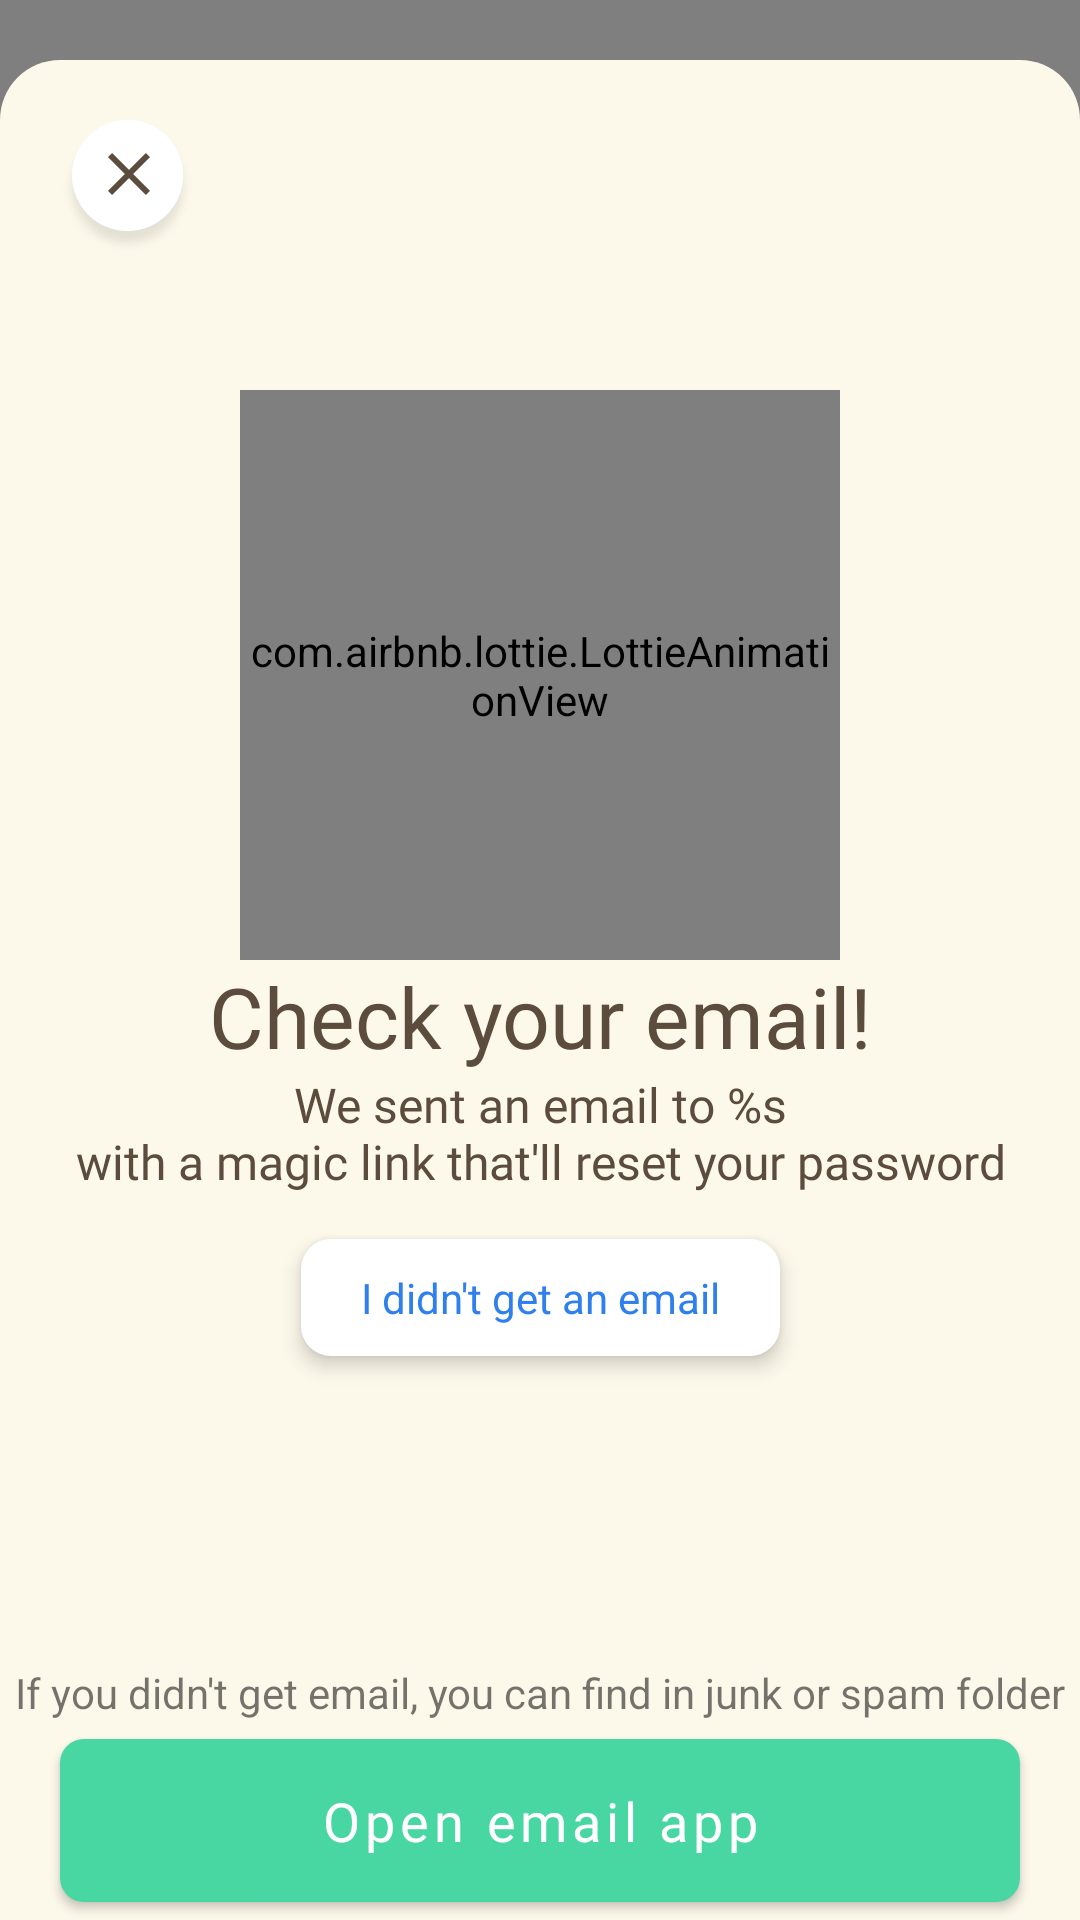

Where icons sit on this 1080 × 1920 app screen, as region(x1, y1, x2, y2):
close round: region(69, 120, 186, 245)
